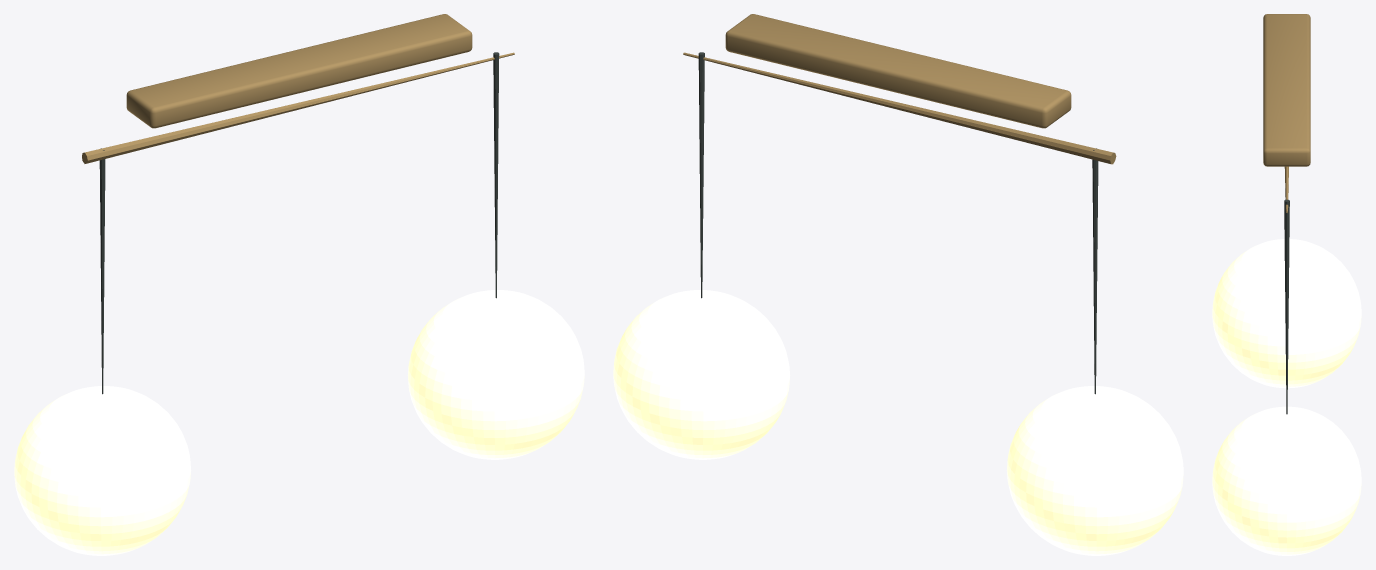
File: double-opal-pendant.glb
The picture shows the model from 3 angles, left to right: view 1: azimuth 30°, elevation 25°; view 2: azimuth 150°, elevation 25°; view 3: azimuth 270°, elevation 25°; orthographic projection. The views are drawn at different scales.
Parts seen in each view (by area): view 1: catalog_surface_UVMap, catalog_surface_RealismUV; view 2: catalog_surface_UVMap, catalog_surface_RealismUV; view 3: catalog_surface_UVMap, catalog_surface_RealismUV.
Part boxes in pixels (bbox=[...]): catalog_surface_UVMap: bbox=[14, 290, 584, 555]; catalog_surface_RealismUV: bbox=[82, 14, 514, 394]; catalog_surface_UVMap: bbox=[613, 290, 1183, 555]; catalog_surface_RealismUV: bbox=[683, 14, 1116, 394]; catalog_surface_UVMap: bbox=[1212, 239, 1361, 555]; catalog_surface_RealismUV: bbox=[1263, 14, 1310, 414].
Bounding box in the file's own units: 0.85 × 0.65 × 0.23.
